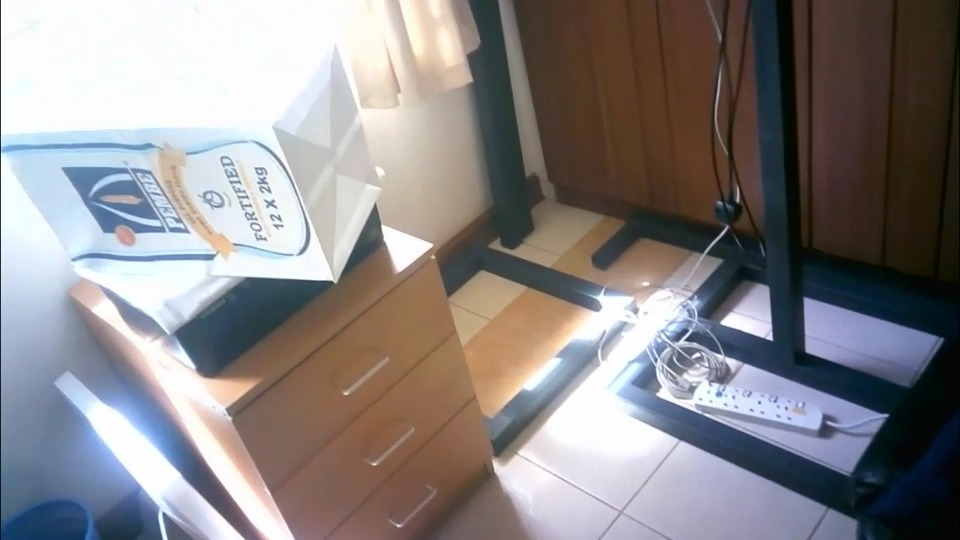wheat_flour_blue_label: (0, 45, 381, 279)
